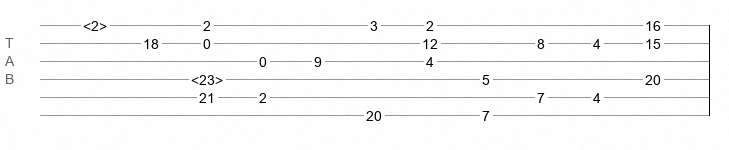0: (203, 36, 211, 46), (259, 54, 267, 64)
12: (422, 36, 438, 46)
15: (645, 36, 661, 46)
16: (645, 18, 661, 28)
18: (143, 36, 159, 46)
2: (203, 18, 211, 28), (259, 90, 267, 100), (426, 18, 434, 28)
20: (366, 108, 382, 118), (645, 72, 661, 82)
21: (199, 90, 215, 100)
3: (370, 18, 378, 28)
4: (426, 54, 434, 64), (593, 36, 601, 46), (593, 90, 601, 100)
5: (482, 72, 490, 82)
7: (482, 108, 490, 118), (537, 90, 545, 100)
8: (537, 36, 545, 46)
9: (314, 54, 322, 64)
harmonic: (191, 72, 223, 82), (83, 18, 107, 28)
